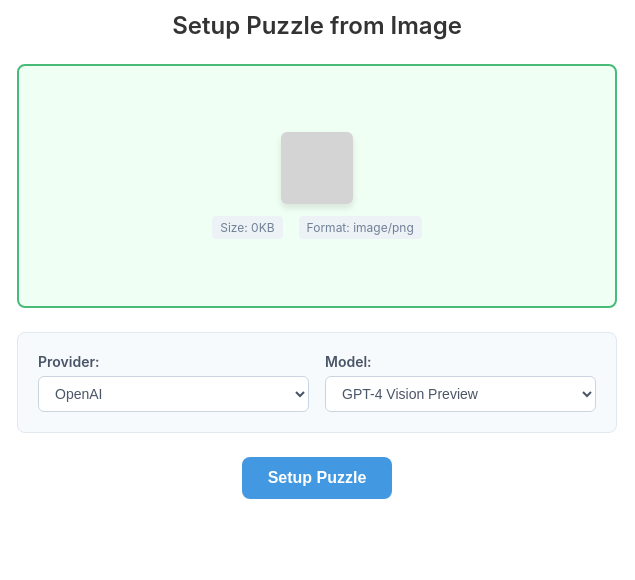
Test: ImagePuzzleSetup - Error Handling › Error State Preservation › preserves image data and selections after extraction error
Click the button labelled "Setup Puzzle": (317, 478) [242,457,392,499]
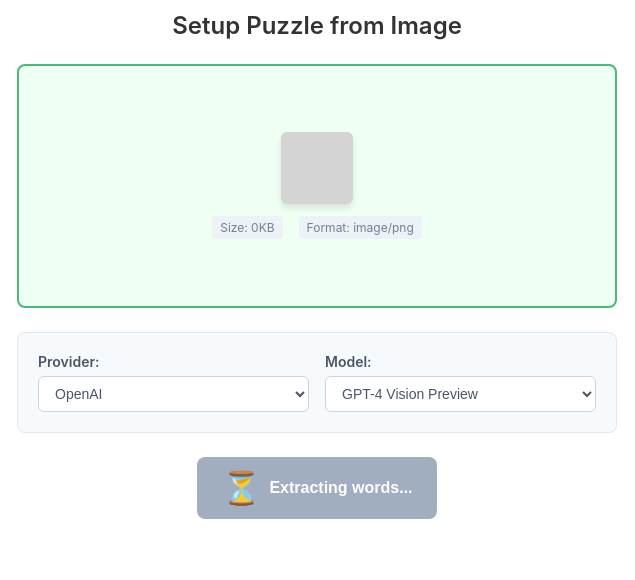
Select "Ollama" in the dropdown named "LLM Provider": (174, 394) [38,376,309,412]
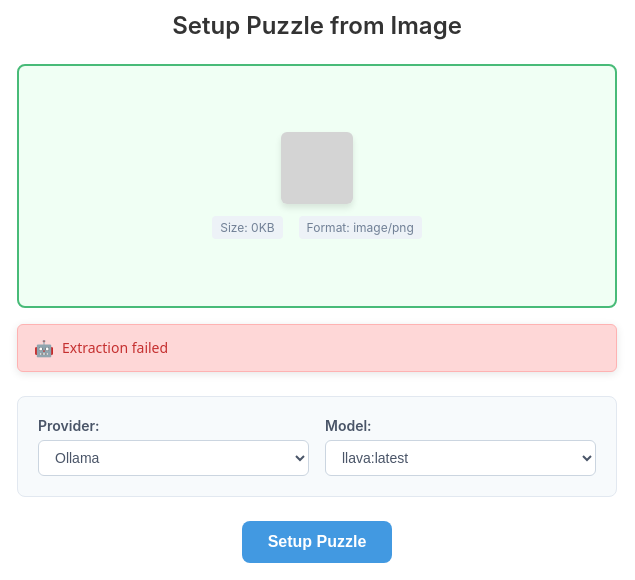
Now the text "🤖 Extraction failed" is shown, box [17,324,617,372]
Now the button labelled "Setup Puzzle" is enabled, box [242,521,392,563]
